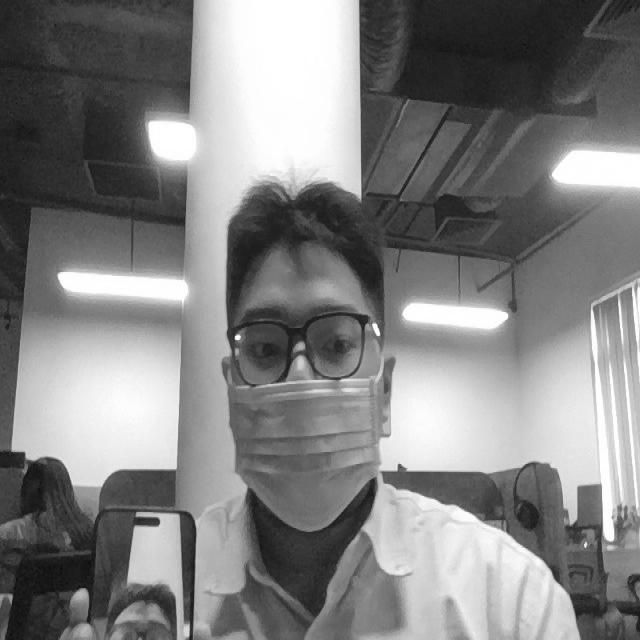fake: (227, 374, 388, 534), (84, 484, 200, 640), (99, 574, 185, 640)
real: (206, 152, 418, 550), (232, 320, 384, 374)
